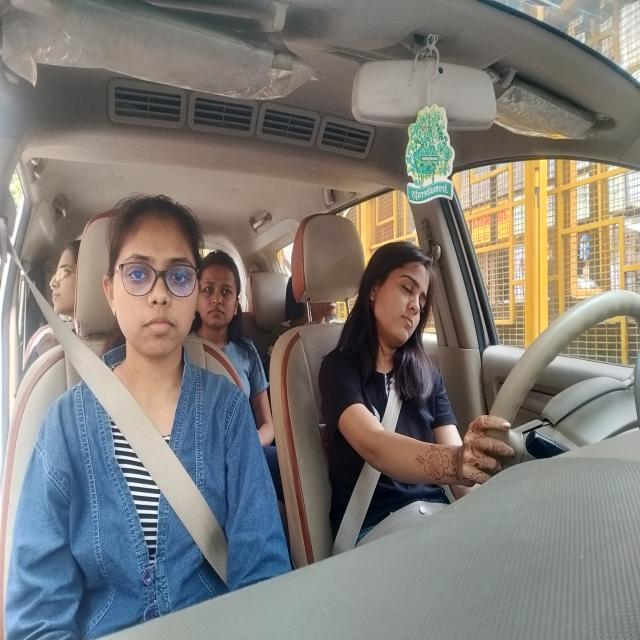drowsy: (367, 240, 433, 353)
person: (102, 190, 200, 376), (201, 249, 243, 335), (49, 243, 82, 318)
